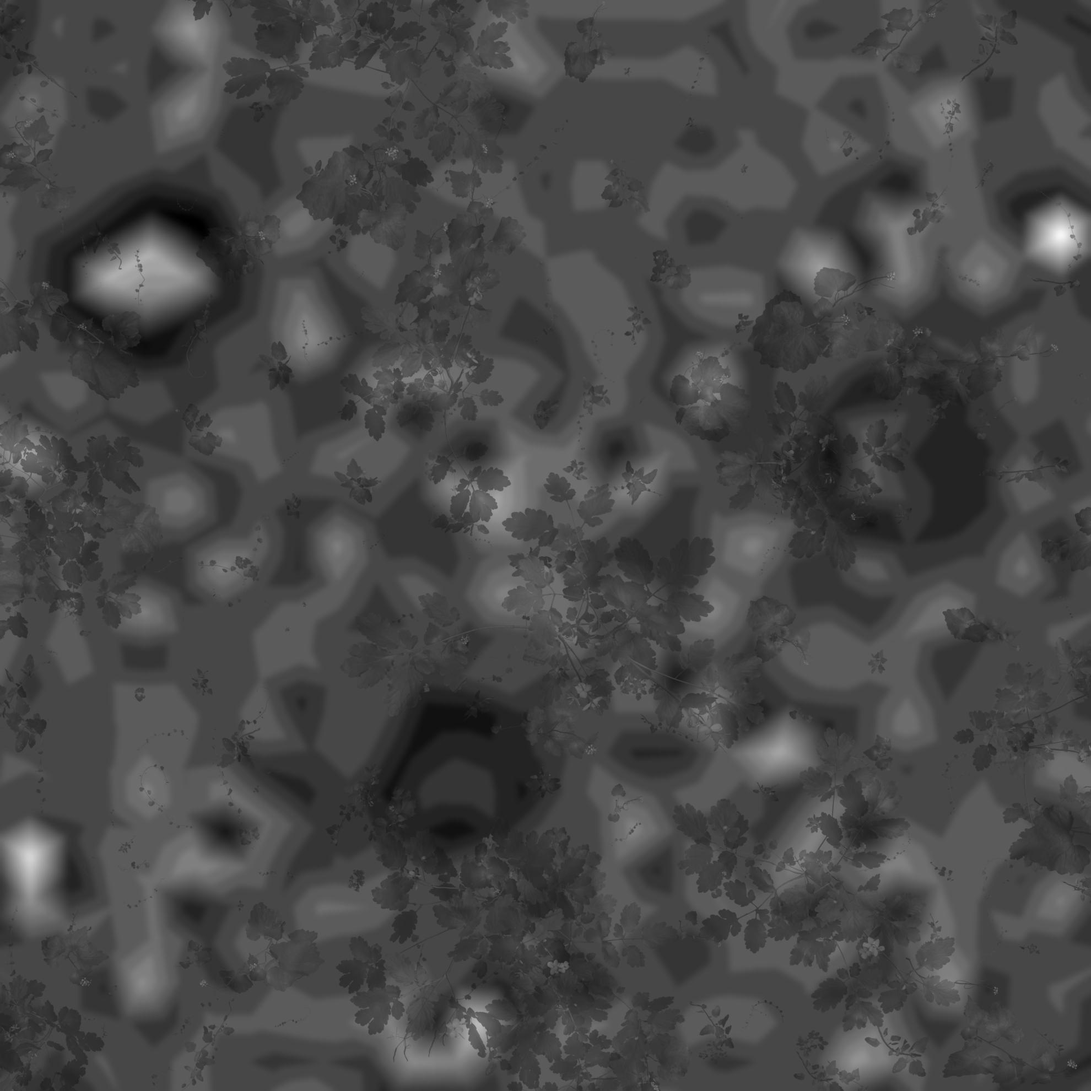landmine: (805, 366, 987, 541), (60, 206, 223, 362), (395, 711, 531, 844)
